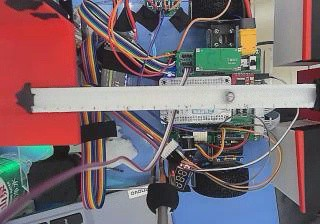ironball: (223, 90, 234, 102)
